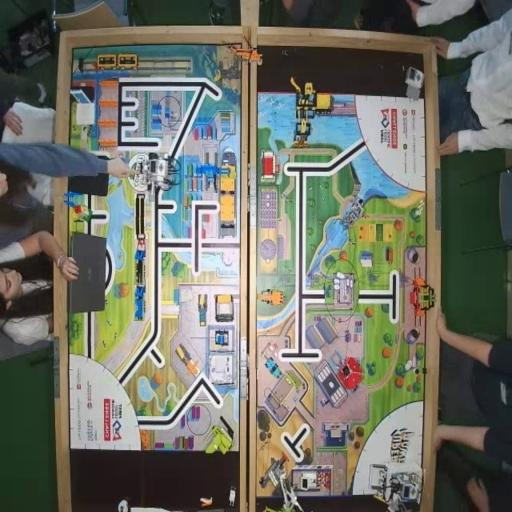lego_robot: (369, 462, 424, 512), (127, 152, 181, 198)
